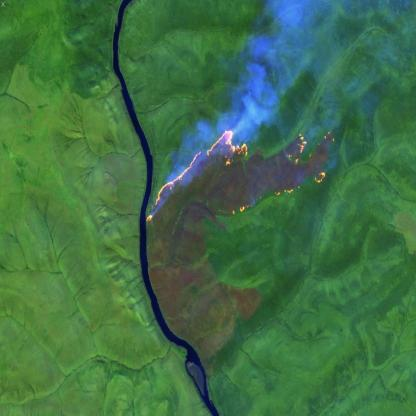fire: (140, 119, 340, 229)
